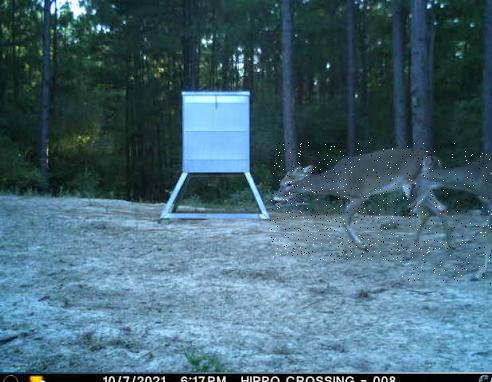Deer: (270, 142, 455, 261), (399, 144, 492, 285)
